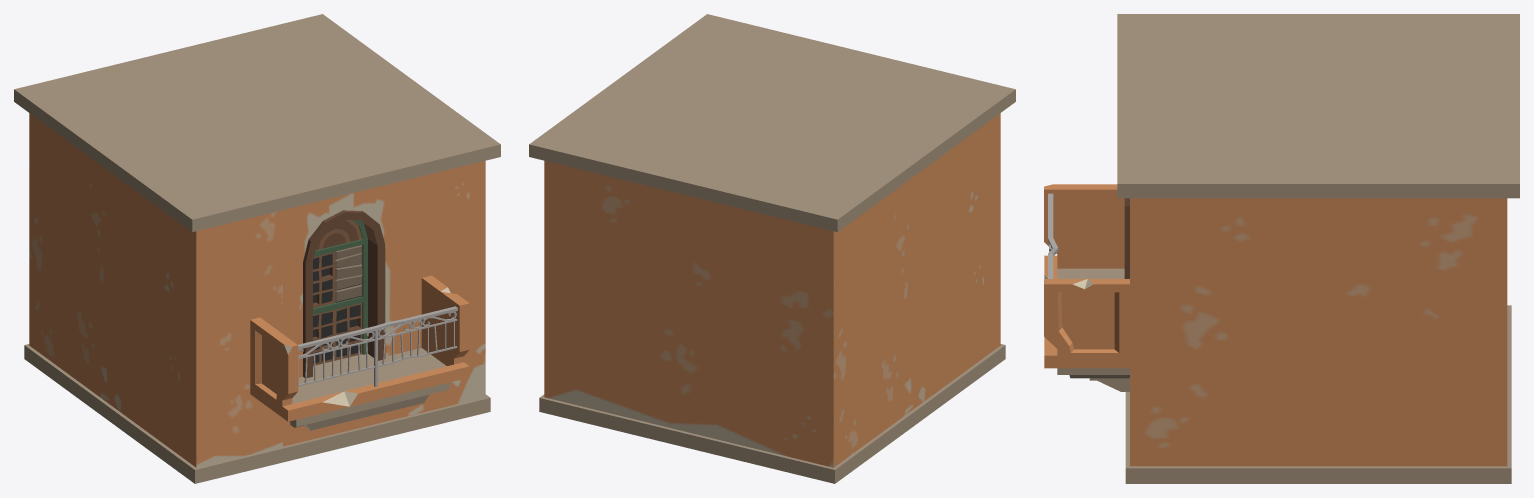
The model's file is SM_Bld_Cuba_Room_07.glb.
3 renders of one model, left to right at view 1: azimuth 30°, elevation 25°; view 2: azimuth 150°, elevation 25°; view 3: azimuth 270°, elevation 25°, orthographic. The views are drawn at different scales.
Visible parts, largest first — view 1: SM_Bld_Cuba_Room_07; view 2: SM_Bld_Cuba_Room_07; view 3: SM_Bld_Cuba_Room_07.
Part boxes in pixels (bbox=[...]): SM_Bld_Cuba_Room_07: bbox=[14, 14, 500, 483]; SM_Bld_Cuba_Room_07: bbox=[529, 14, 1015, 483]; SM_Bld_Cuba_Room_07: bbox=[1044, 14, 1519, 483].
Bounding box in the file's own units: 0.04 × 0.0333 × 0.0473.
1 material, 1 textured.
